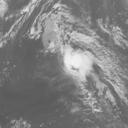cyclone: (61, 47, 95, 79)
